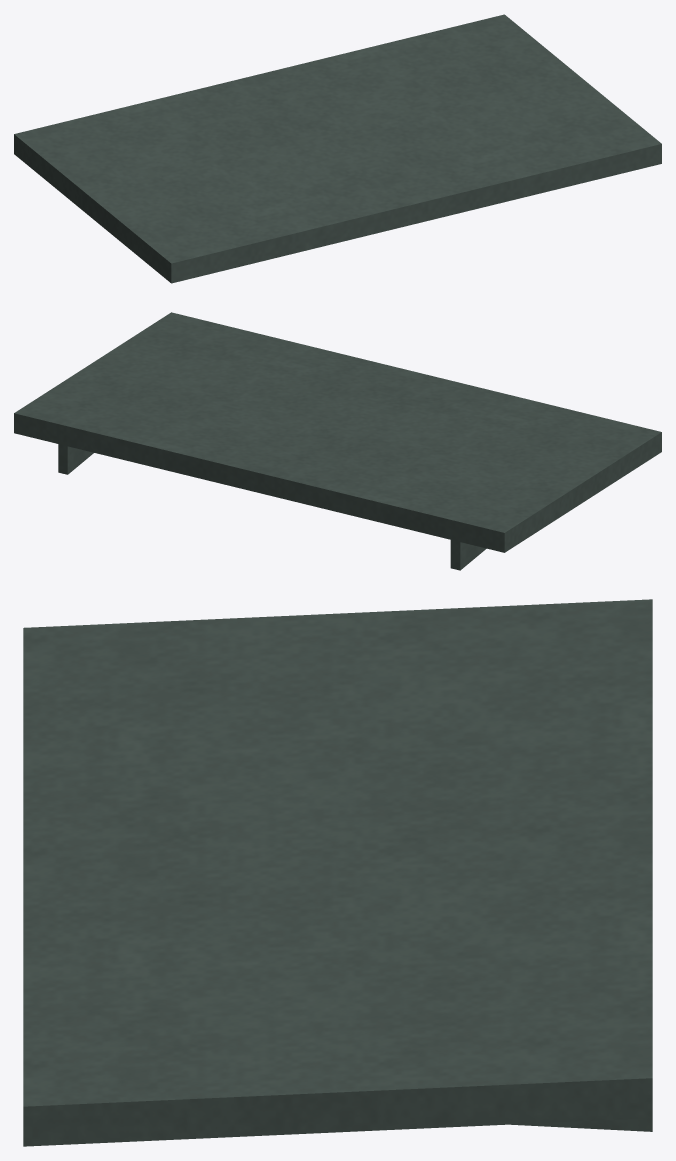
The model's file is flat-metal-awning.lod0.glb.
3 renders of one model, top to bottom at view 1: azimuth 30°, elevation 25°; view 2: azimuth 150°, elevation 25°; view 3: azimuth 270°, elevation 25°, orthographic. The views are drawn at different scales.
Visible parts, largest first — view 1: flat-metal-awning; view 2: flat-metal-awning; view 3: flat-metal-awning.
Part boxes in pixels (left/top/right/bottom): flat-metal-awning: left=14, top=14, right=661, bottom=283; flat-metal-awning: left=14, top=312, right=661, bottom=570; flat-metal-awning: left=23, top=599, right=652, bottom=1146.
Size of the model in its own units: 1.8 by 0.17 by 1.
Materials: 1 (1 with a texture image).
